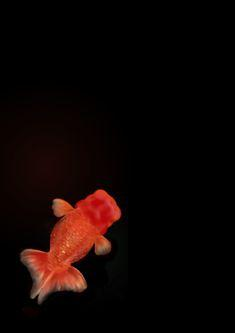goldfish: (13, 181, 137, 311)
